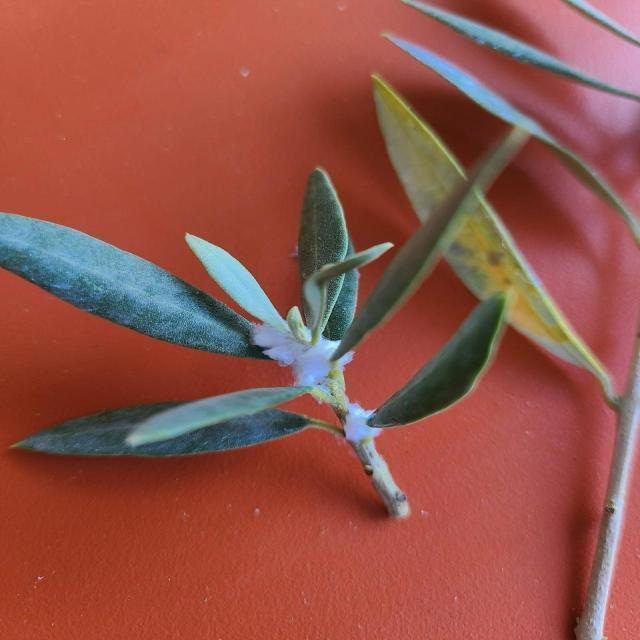Psyllid: (250, 307, 352, 412), (332, 402, 382, 464)
